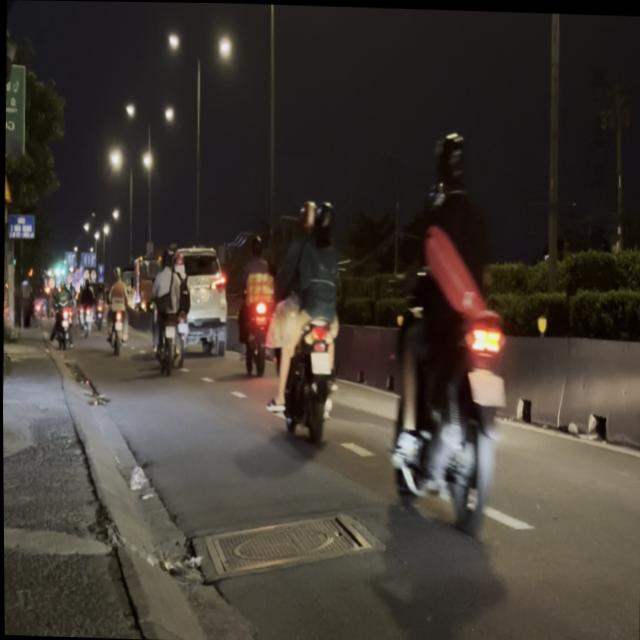helmet: (429, 126, 472, 197), (311, 196, 334, 240), (299, 196, 317, 236)
licenseplate: (379, 120, 517, 542), (265, 190, 345, 442)
nohelmet: (466, 367, 505, 403), (310, 350, 330, 372)
